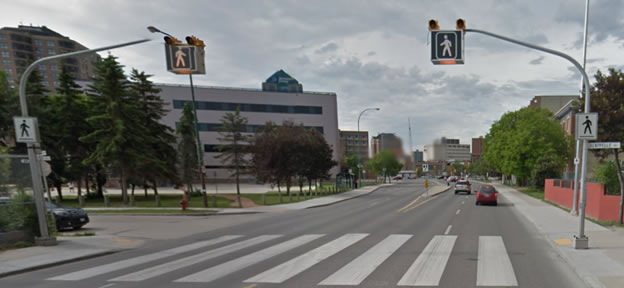car: (475, 184, 499, 206), (455, 180, 470, 194)
pedestrian lane: (52, 233, 518, 288)
pole: (28, 144, 53, 245), (579, 141, 588, 248)
tree: (98, 52, 136, 202), (259, 124, 329, 197), (178, 105, 195, 191)
